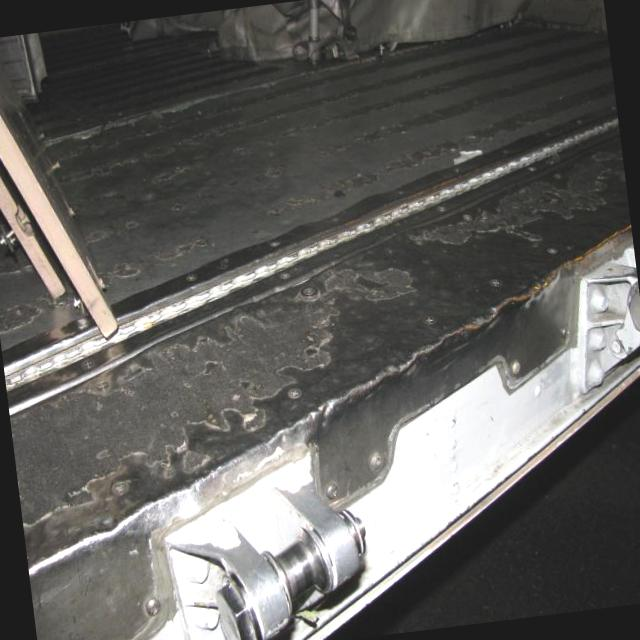dent: (181, 422, 265, 512), (104, 474, 193, 558), (370, 320, 468, 392), (292, 373, 380, 440), (458, 288, 536, 349), (534, 247, 592, 297), (88, 511, 126, 540), (268, 424, 292, 458)
